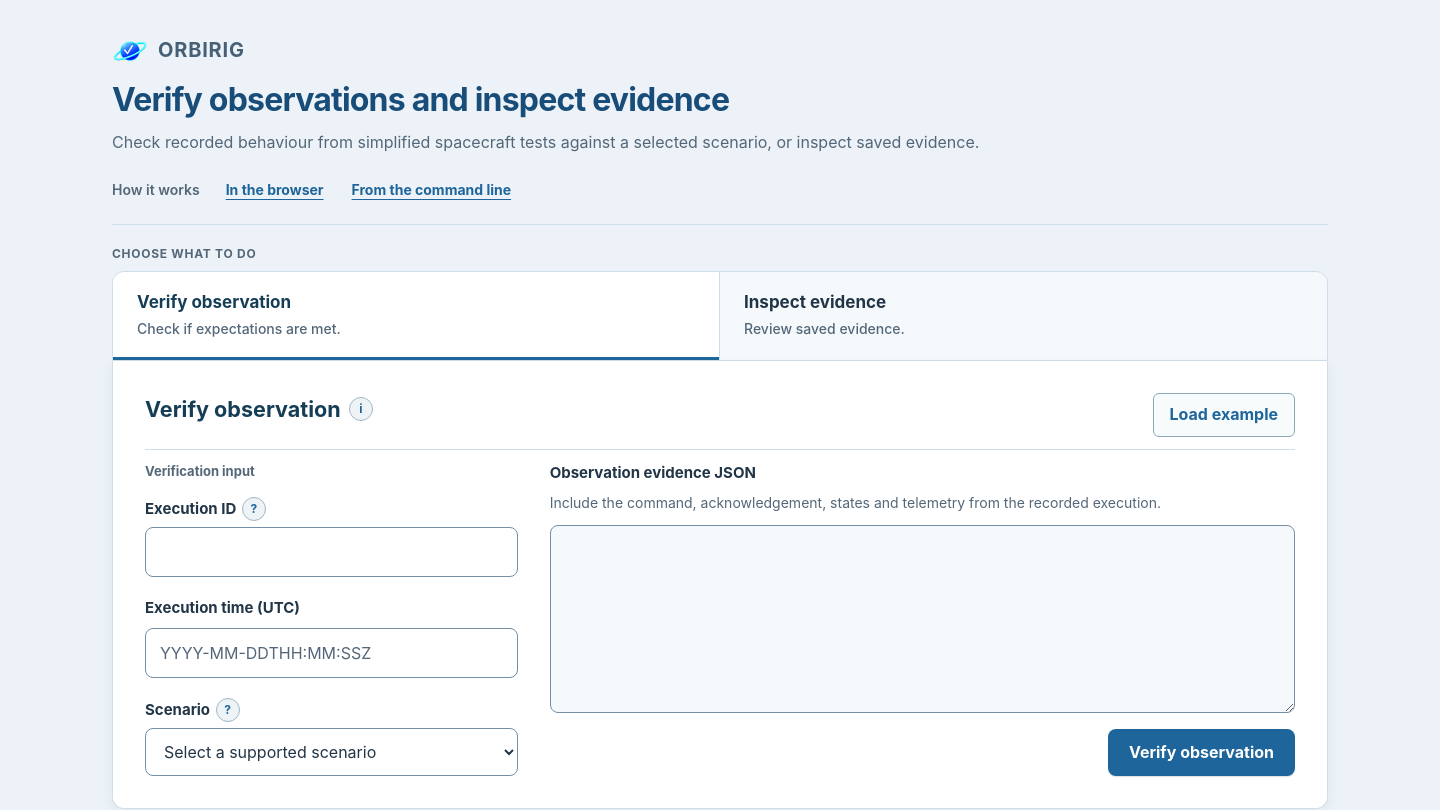
App inspection › switches to inspection and restores the verification workflow
Click the button with aria-label "Show Inspect evidence". click: x=815, y=302
box: x1=720 y1=272 x2=1327 y2=360
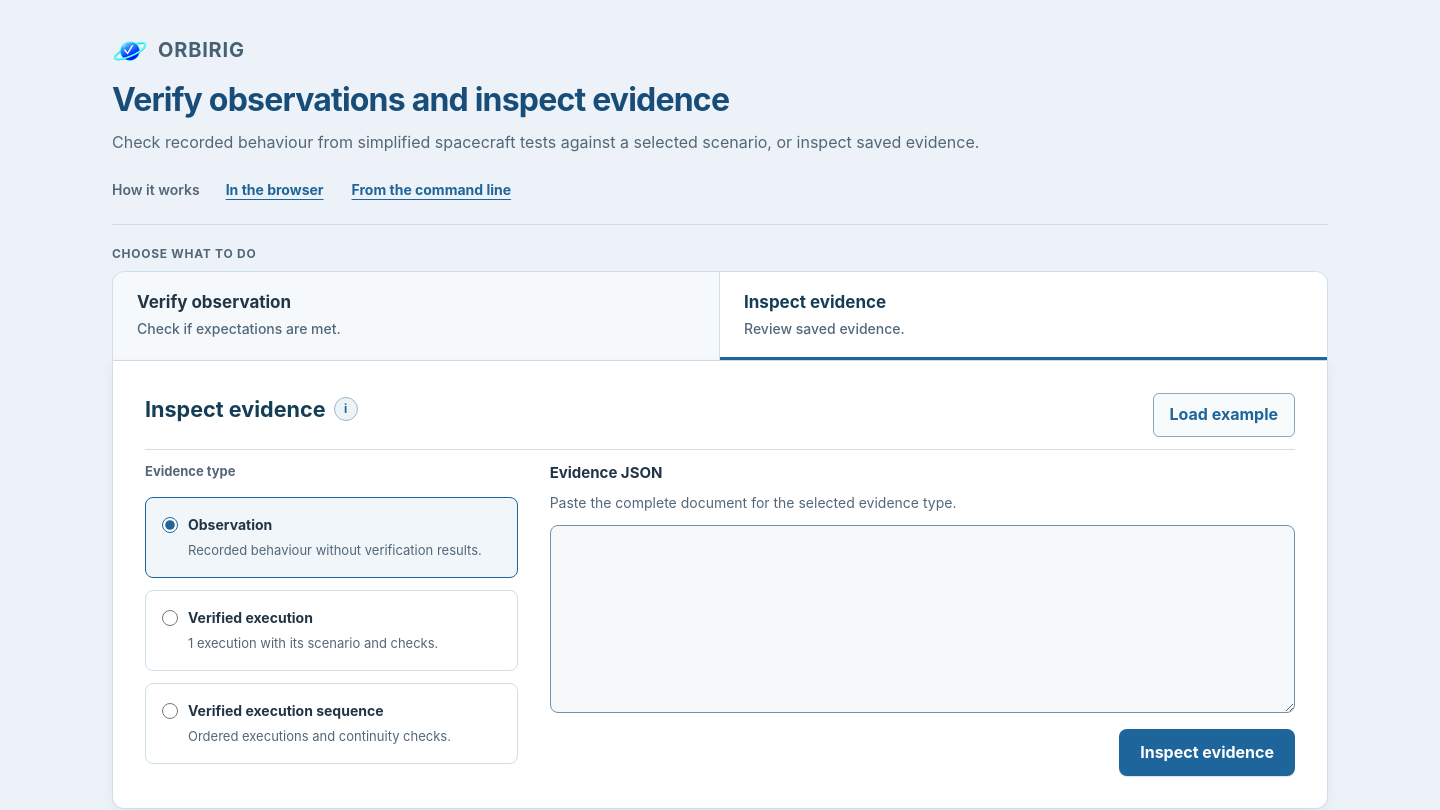
Expected: the text box labelled "Evidence JSON" is shown, x1=550 y1=525 x2=1295 y2=713
Now the label labelled "Execution ID" is gone
Click the button with aria-label "Show Verify observation". click: x=214, y=302
box: x1=113 y1=272 x2=720 y2=360
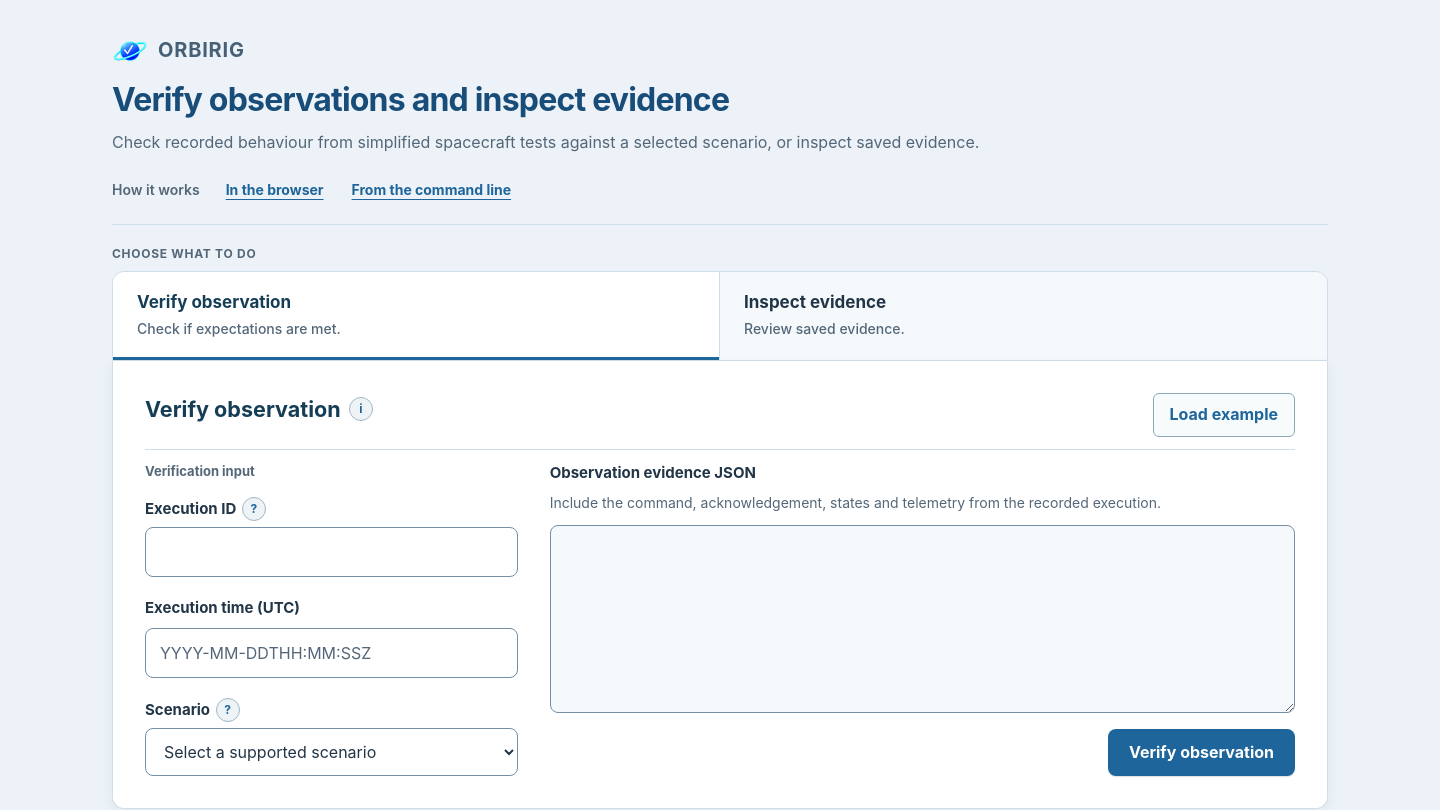
Now the field labelled "Execution ID" is shown, box x1=145 y1=528 x2=518 y2=578
